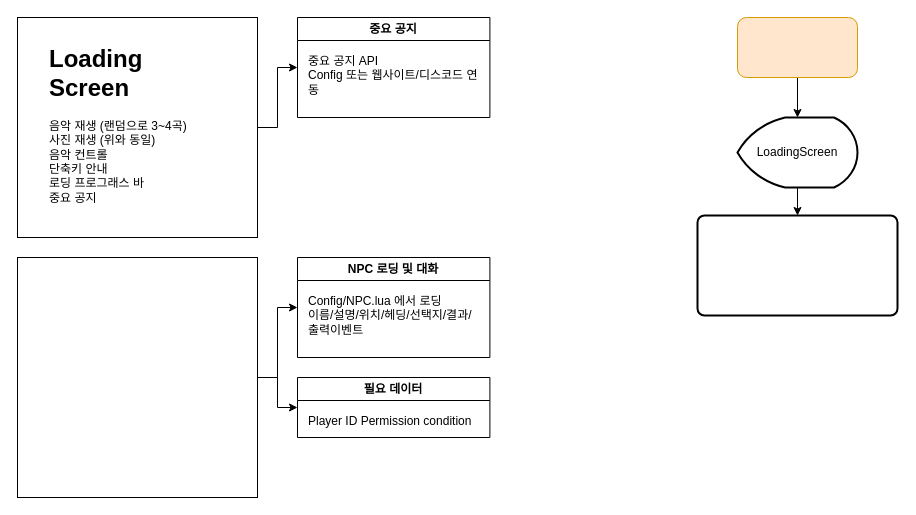
Image size: 916x515. Some labels were removed from this diagram. Here are the shapes that lost their labels. From the top down, the centre of each, then its label:
(x=797, y=47): CONNECT
(x=797, y=265): Player Data ID. Permisson. Money. Cash. Quest. Coords
(x=137, y=377): NPC NPC 로딩 NPC와 대화 결과 출력
